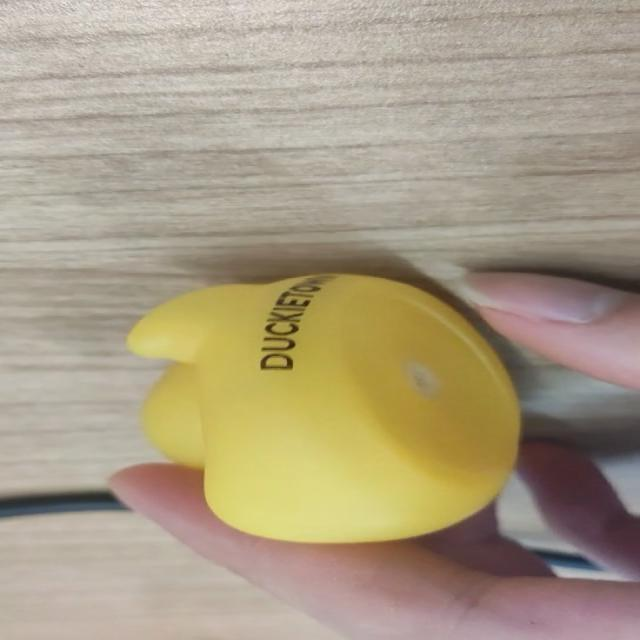rubber-duck: (126, 273, 518, 540)
